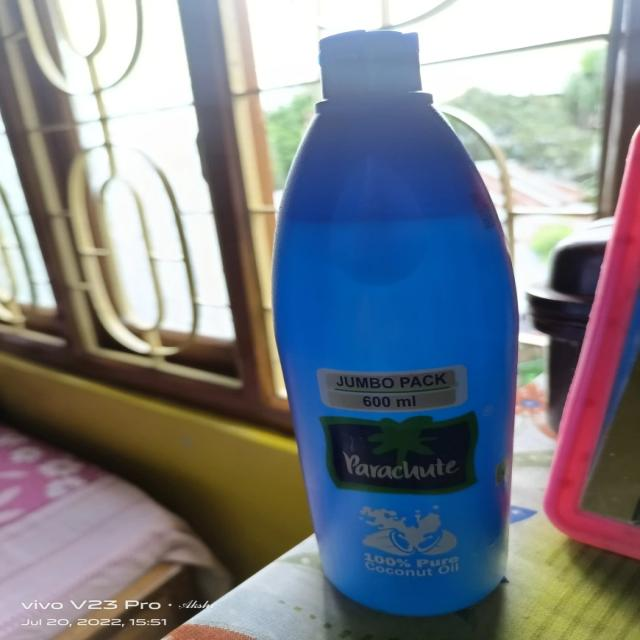parachute_oil: (265, 28, 517, 623)
